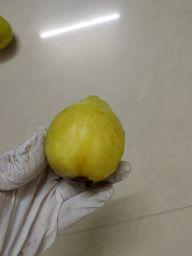guava: (46, 90, 127, 187)
